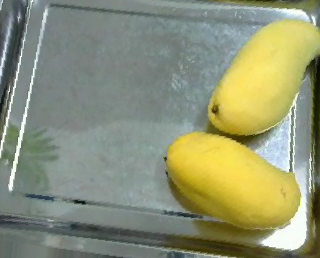Mango: (208, 20, 320, 136), (166, 132, 301, 228)
